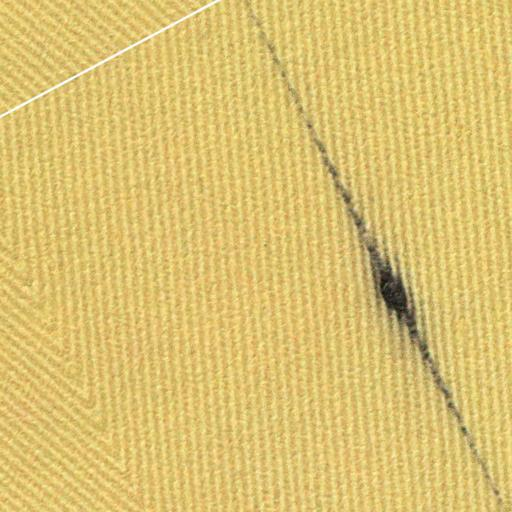stain: (235, 2, 508, 510)
